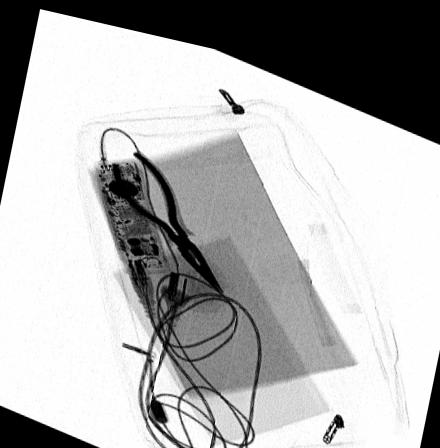Pliers: (111, 143, 225, 284)
